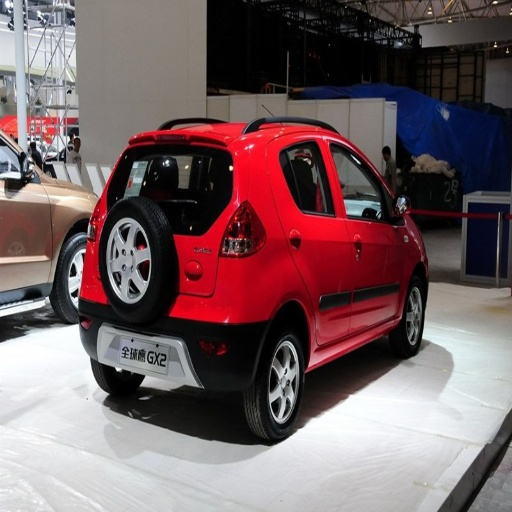back_bumper: (105, 256, 268, 389)
back_right_door: (282, 135, 355, 347)
trunk: (175, 223, 220, 296)
